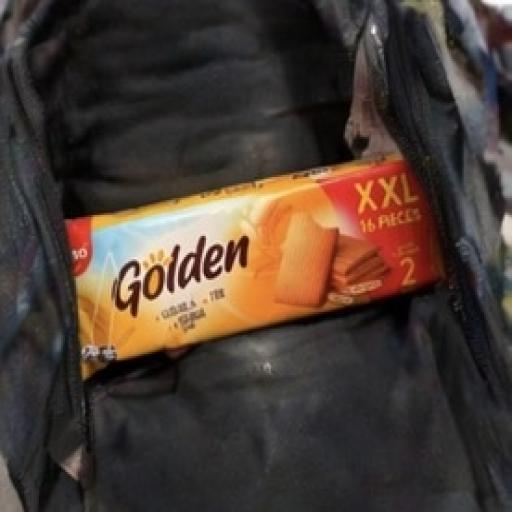golden: (30, 139, 494, 413)
